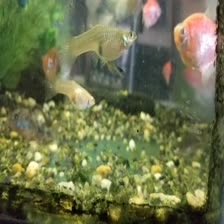Guppy: (54, 20, 140, 63), (35, 70, 99, 112)
Plano: (167, 10, 222, 64)
